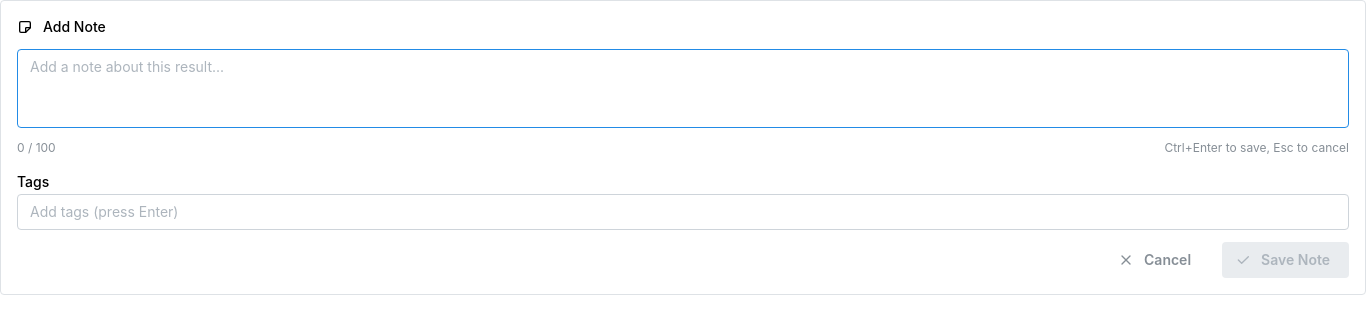
Scenario: NoteEditor › content input › should update character count when typing
Type "Hello" into the text box named "note content" at (683, 89), box [17, 49, 1349, 128]
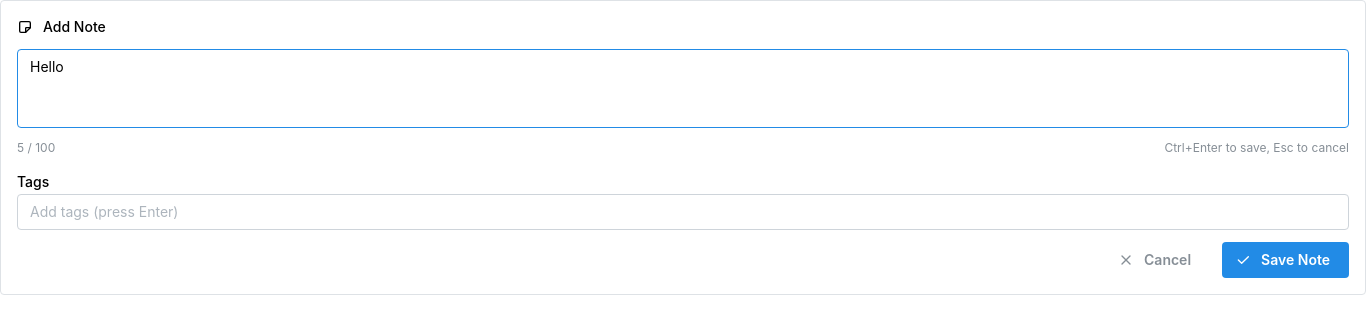
Now the text "5 / 100" is shown, box [17, 140, 55, 157]
